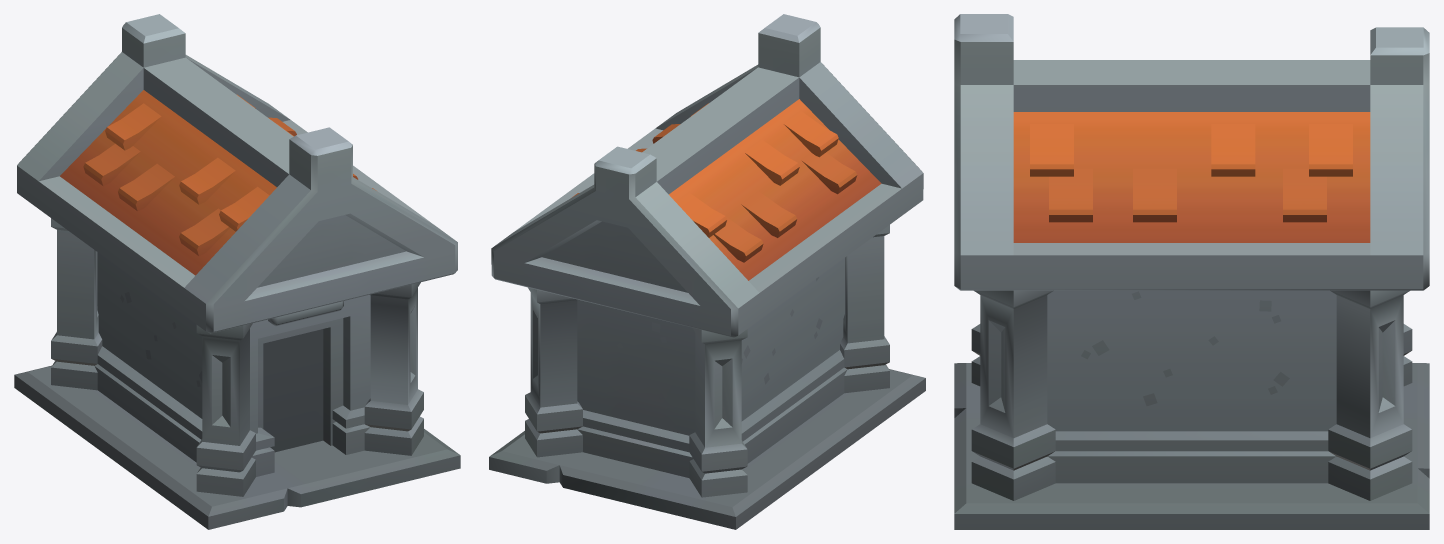
The model's file is h_crypt.glb.
The picture shows the model from 3 angles, left to right: view 1: azimuth 30°, elevation 25°; view 2: azimuth 150°, elevation 25°; view 3: azimuth 270°, elevation 25°; orthographic projection. The views are drawn at different scales.
Visible parts, largest first — view 1: crypt; view 2: crypt; view 3: crypt.
Part boxes in pixels (x1,y1,x2,y2): crypt: (14,14,460,529); crypt: (489,14,925,529); crypt: (954,14,1429,529).
Size of the model in its own units: 6 by 8 by 8.
Materials: 1 (1 with a texture image).
